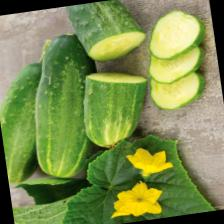cucumber: (20, 29, 112, 182), (77, 64, 156, 150), (63, 0, 149, 66)
